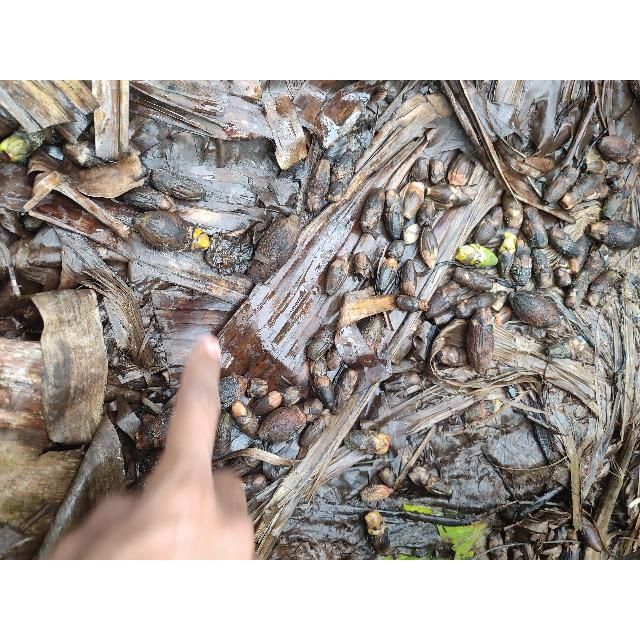damaged: (254, 211, 298, 277), (508, 291, 562, 329), (148, 168, 208, 202), (258, 406, 308, 446), (466, 308, 494, 376), (558, 173, 604, 210), (121, 186, 179, 214), (588, 218, 638, 250), (136, 407, 172, 449), (542, 166, 578, 206), (362, 507, 390, 558), (604, 80, 634, 126), (496, 140, 532, 177), (585, 268, 619, 306), (546, 334, 592, 362), (578, 244, 608, 286), (361, 186, 385, 238), (473, 207, 503, 246), (300, 409, 330, 448), (522, 205, 548, 249), (346, 430, 390, 456), (409, 466, 447, 496), (598, 136, 638, 164), (334, 368, 358, 414), (426, 185, 468, 211), (462, 399, 502, 426), (220, 375, 248, 413), (232, 400, 260, 438), (307, 158, 329, 206), (452, 268, 496, 292), (511, 238, 532, 288), (384, 189, 404, 241), (564, 233, 590, 273), (546, 226, 580, 256), (428, 283, 458, 317), (326, 250, 348, 296), (454, 244, 496, 268), (531, 245, 553, 289), (600, 188, 630, 220), (306, 326, 334, 360), (345, 122, 373, 156), (424, 91, 454, 122), (403, 181, 425, 223), (377, 253, 399, 295), (213, 414, 233, 460), (518, 156, 556, 180), (501, 190, 523, 230), (447, 154, 473, 186), (225, 454, 259, 478), (566, 270, 588, 306), (419, 226, 437, 270), (361, 316, 383, 352), (331, 149, 355, 181), (326, 175, 350, 207), (252, 392, 284, 416), (378, 80, 407, 106), (434, 345, 468, 367), (498, 240, 516, 280), (314, 376, 334, 412), (386, 372, 422, 392), (248, 258, 278, 282), (399, 258, 416, 298), (360, 483, 394, 503), (239, 471, 267, 495), (352, 251, 372, 283), (486, 529, 506, 559), (453, 298, 482, 318), (352, 112, 376, 136), (278, 385, 304, 407), (417, 202, 437, 230), (409, 158, 428, 186), (245, 377, 269, 399), (610, 180, 634, 202), (386, 239, 406, 265), (297, 398, 323, 418), (310, 356, 328, 384), (524, 176, 544, 200), (398, 296, 426, 312), (429, 159, 446, 185), (1, 224, 18, 250), (492, 304, 512, 326), (602, 160, 624, 180), (552, 266, 572, 288), (490, 290, 508, 314), (366, 86, 388, 105), (582, 160, 608, 176), (326, 346, 342, 372), (403, 222, 421, 245), (378, 467, 396, 488), (422, 80, 442, 96)
